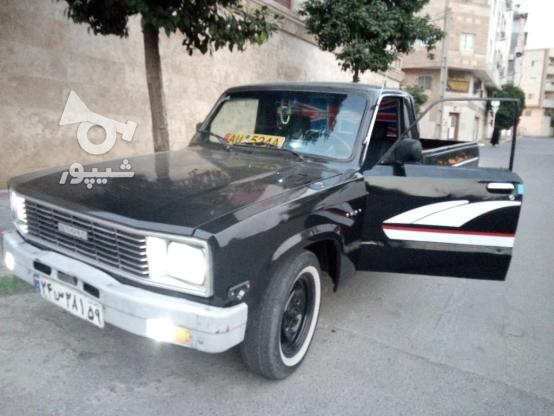car: (33, 271, 106, 329)
